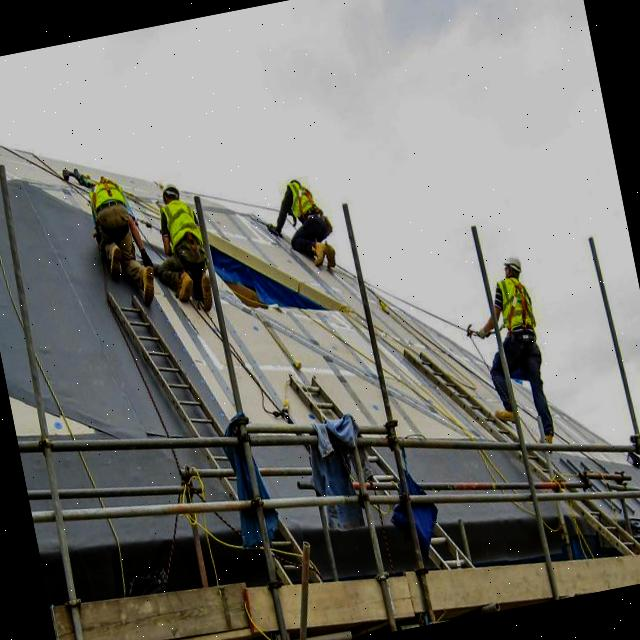boots: (136, 265, 160, 308), (172, 270, 198, 305), (106, 245, 128, 280), (199, 274, 219, 310), (496, 402, 520, 428), (323, 243, 342, 270), (310, 244, 330, 268)
helmet: (158, 177, 185, 203), (504, 252, 525, 274)
vest: (491, 276, 541, 337), (157, 199, 208, 255), (85, 178, 131, 216), (280, 182, 322, 220)
